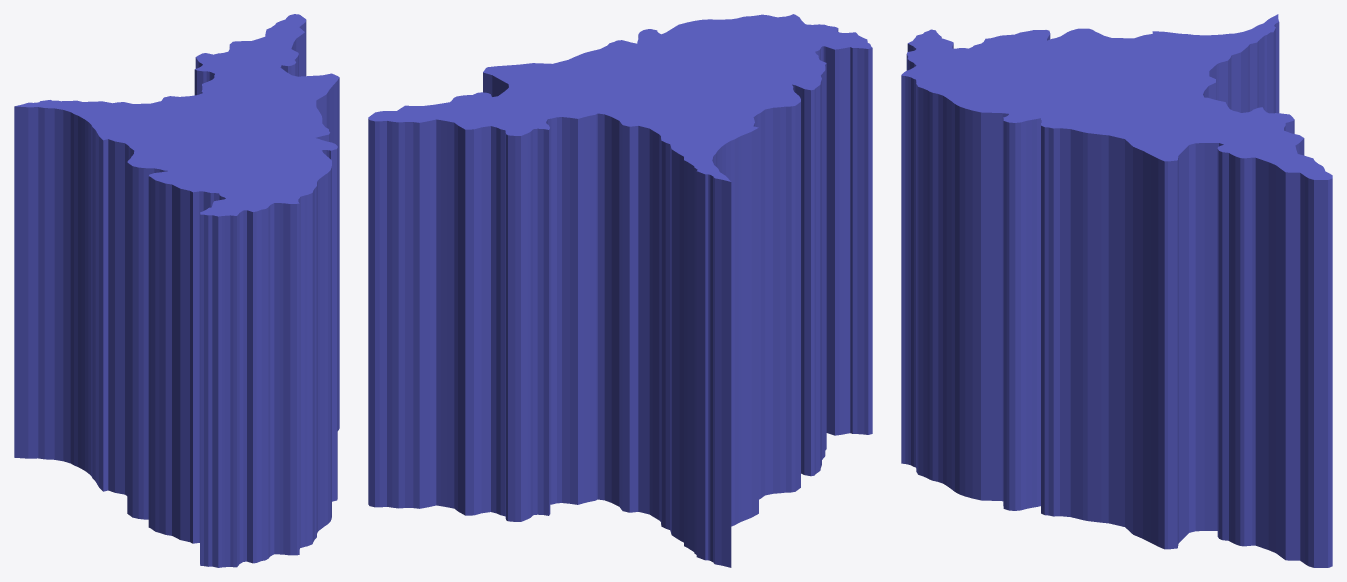
File: FrozenLake02.dae
3 renders of one model, left to right at view 1: azimuth 30°, elevation 25°; view 2: azimuth 150°, elevation 25°; view 3: azimuth 270°, elevation 25°, orthographic. The views are drawn at different scales.
Visible parts, largest first — view 1: Object; view 2: Object; view 3: Object.
Part boxes in pixels (x1,y1,x2,y2): Object: (14, 14, 339, 567); Object: (368, 14, 872, 567); Object: (901, 14, 1332, 567).
Bounding box in the file's own units: 3.86 × 4.24 × 4.2.
